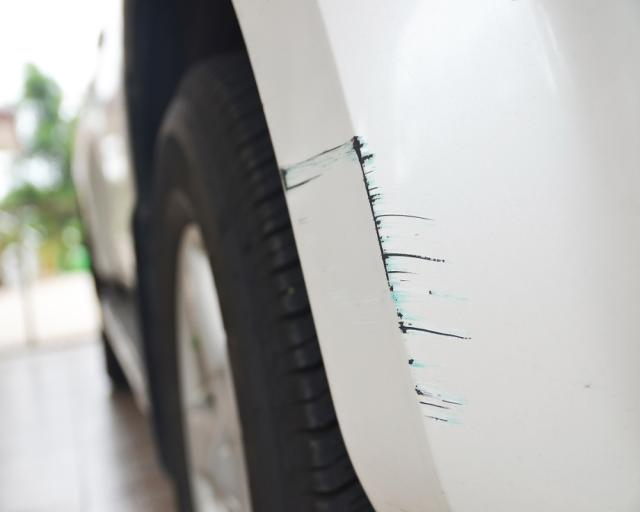scratch: (278, 132, 477, 428)
